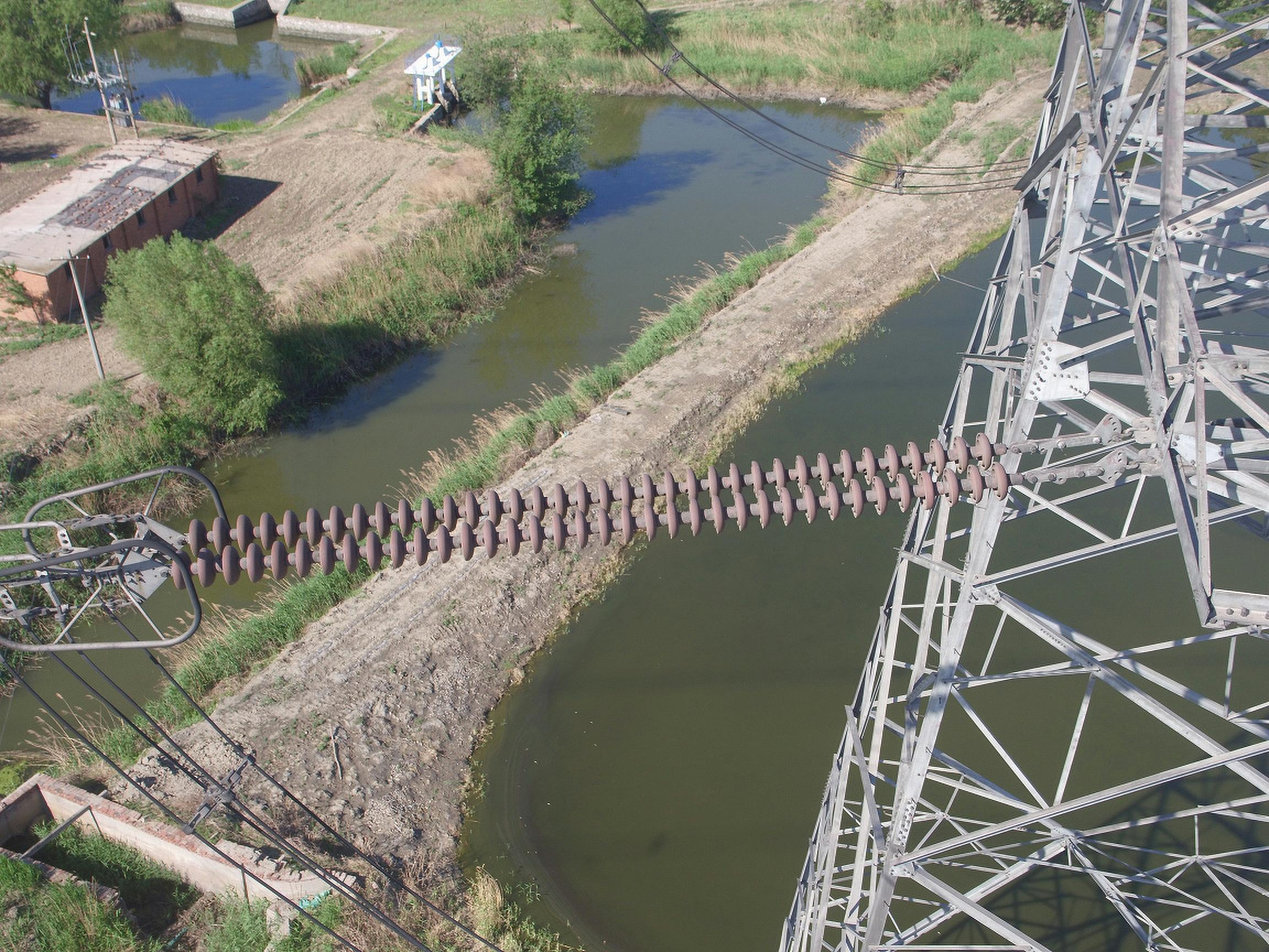insulator: (164, 428, 1012, 594)
